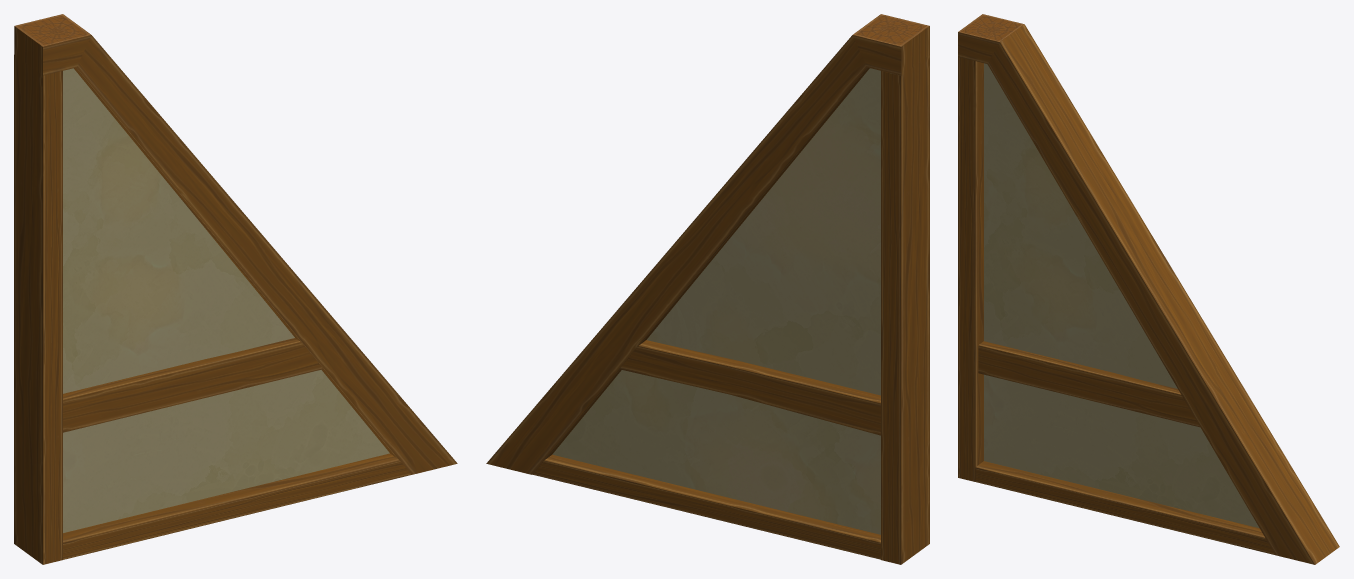
Rendered from SM_House_Roof_02_Wall_Side.fbx.
3 views of the same model, side by side, from view 1: azimuth 30°, elevation 25°; view 2: azimuth 150°, elevation 25°; view 3: azimuth 330°, elevation 25° (orthographic). The views are drawn at different scales.
Visible parts, largest first — view 1: SM_House_Roof_02_Wall_Side; view 2: SM_House_Roof_02_Wall_Side; view 3: SM_House_Roof_02_Wall_Side.
Part boxes in pixels (left/top/right/bottom): SM_House_Roof_02_Wall_Side: left=14, top=14, right=457, bottom=564; SM_House_Roof_02_Wall_Side: left=486, top=14, right=929, bottom=564; SM_House_Roof_02_Wall_Side: left=958, top=14, right=1339, bottom=564.
Bounding box in the file's own units: 3.35 × 4 × 0.4024.
